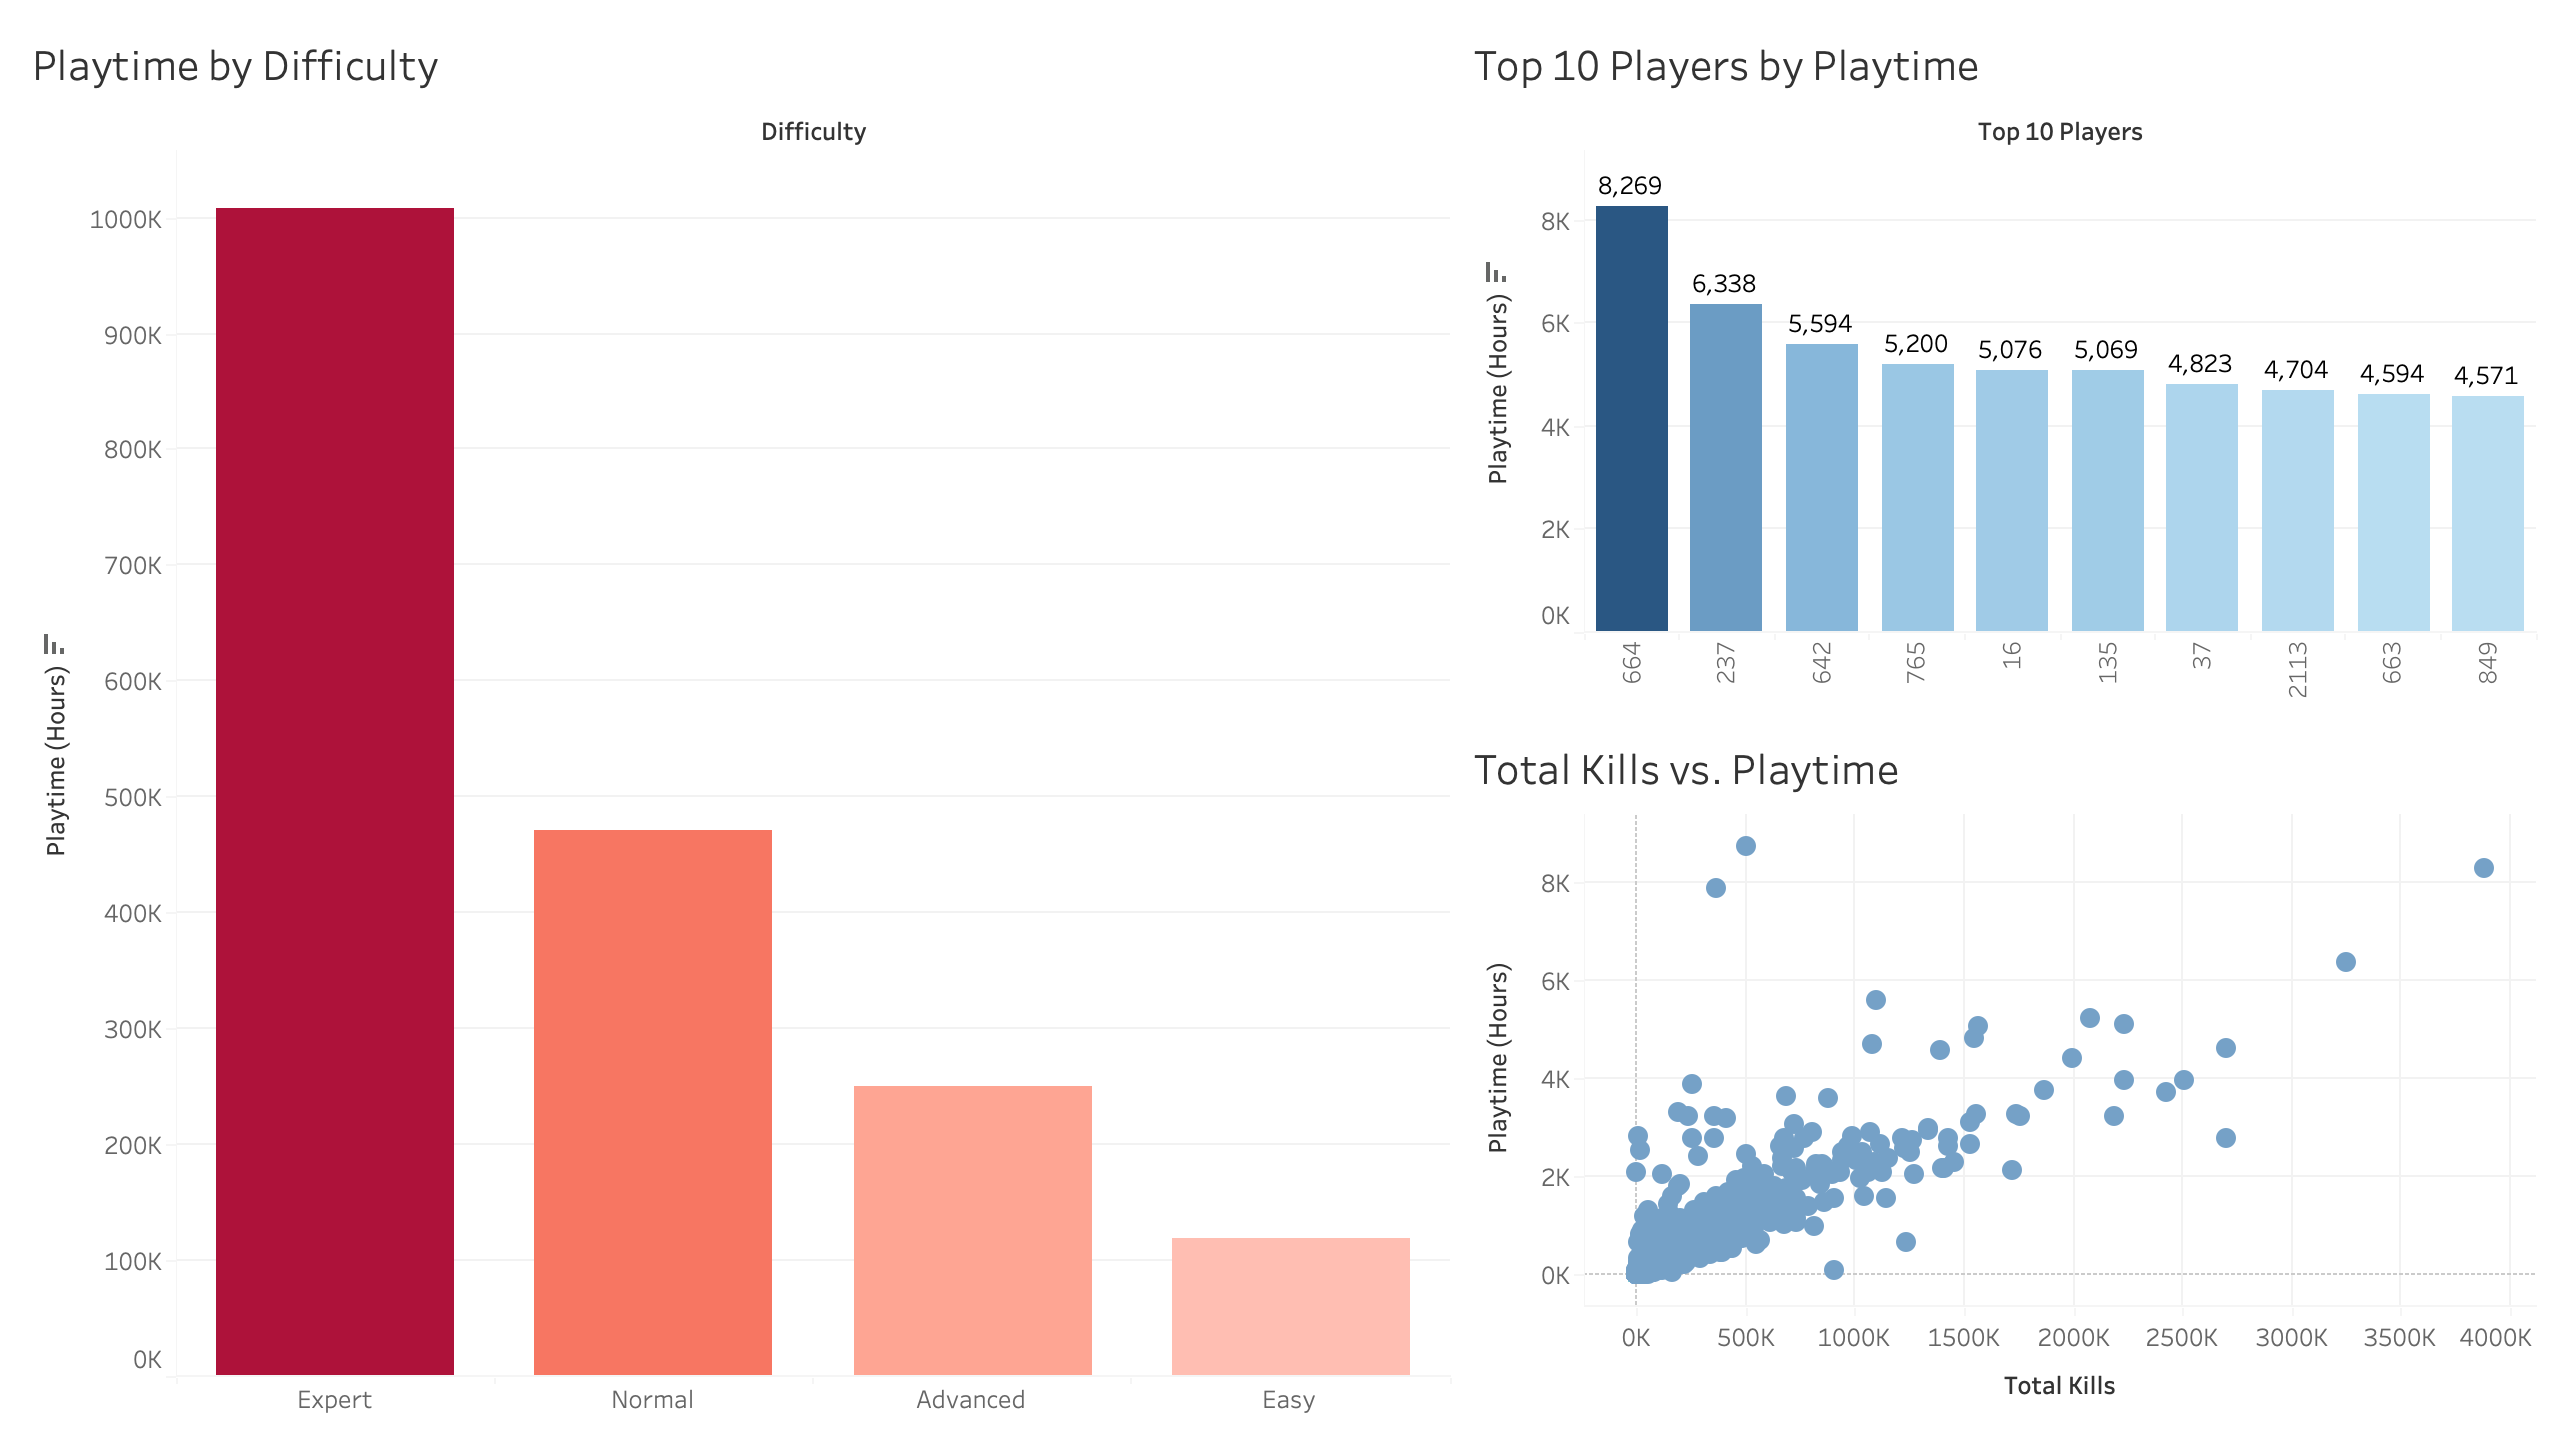

This screenshot's page, from the dashboard's own definition file:
{"tool":"tableau","page":{"name":"Dashboard 1","canvas":[1280,720],"ordinal":0},"visuals":[{"type":"worksheet","title":"Playtime by Difficulty","mark":"Automatic","rows":["Playtime_(Hours)"],"cols":["Difficulty"],"box":[8,8,721,704]},{"type":"worksheet","title":"Top 10 Players by Playtime","mark":"Bar","rows":["Playtime_(Hours)"],"box":[729,8,543,352]},{"type":"worksheet","title":"Total Kills vs. Playtime","mark":"Circle","rows":["Playtime_(Hours)"],"cols":["Total_Kills"],"box":[729,360,543,352]}]}

Visuals, with their boxes in screenshot pixels (x1, y1, x2, y2), scaled from the page's 1280x720 canvas onto the 2560x1440 screenshot:
"Playtime by Difficulty" worksheet: box(16, 16, 1458, 1424)
"Top 10 Players by Playtime" worksheet (Bar marks): box(1458, 16, 2544, 720)
"Total Kills vs. Playtime" worksheet (Circle marks): box(1458, 720, 2544, 1424)
